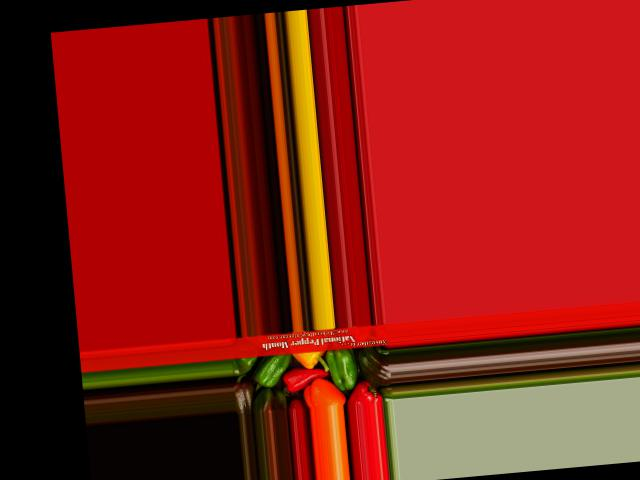bell_pepper: (357, 344, 391, 388)
